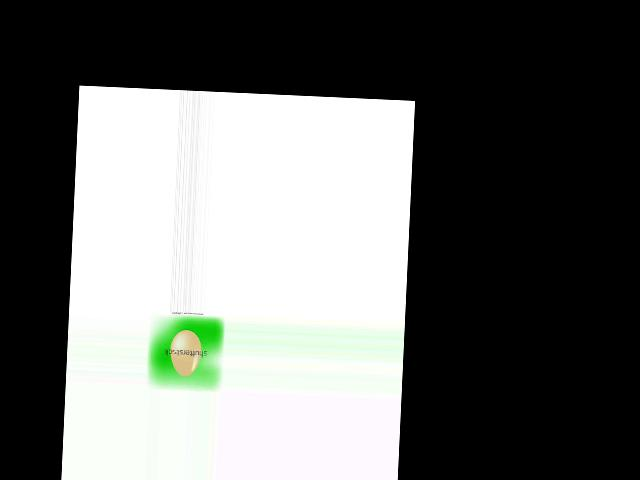egg: (168, 329, 201, 377)
